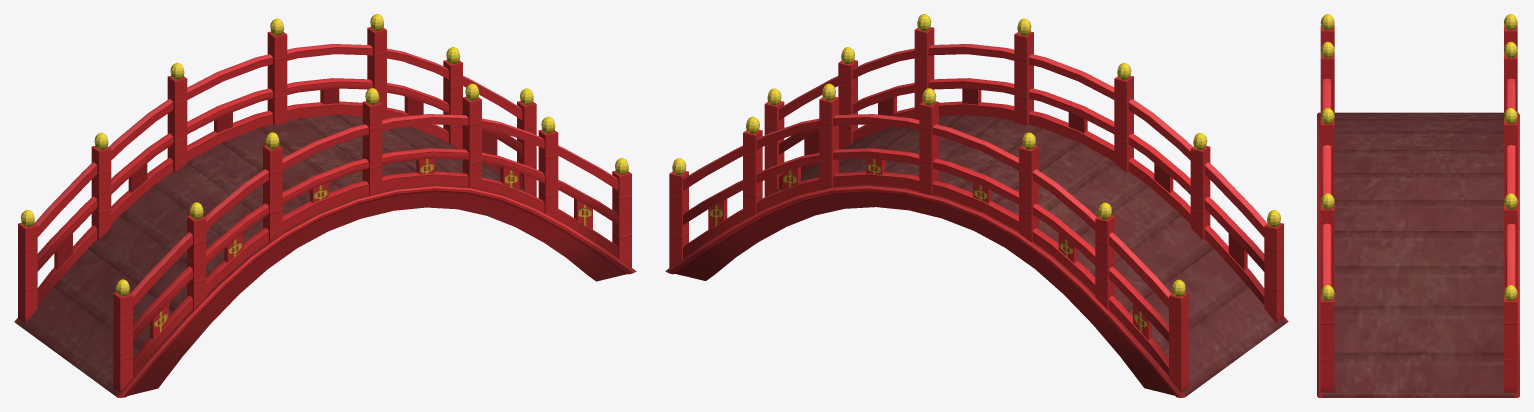
Rendered from japanese_bridge.glb.
3 views of the same model, side by side, from view 1: azimuth 30°, elevation 25°; view 2: azimuth 150°, elevation 25°; view 3: azimuth 270°, elevation 25° (orthographic). The views are drawn at different scales.
Visible parts, largest first — view 1: bridge1; view 2: bridge1; view 3: bridge1.
Part boxes in pixels (box(x1,y1,x2,y2)): bridge1: box(14, 14, 636, 397); bridge1: box(665, 14, 1288, 397); bridge1: box(1317, 14, 1519, 397).
Size of the model in its own units: 11.92 by 5.34 by 4.19.
Materials: 1 (1 with a texture image).
